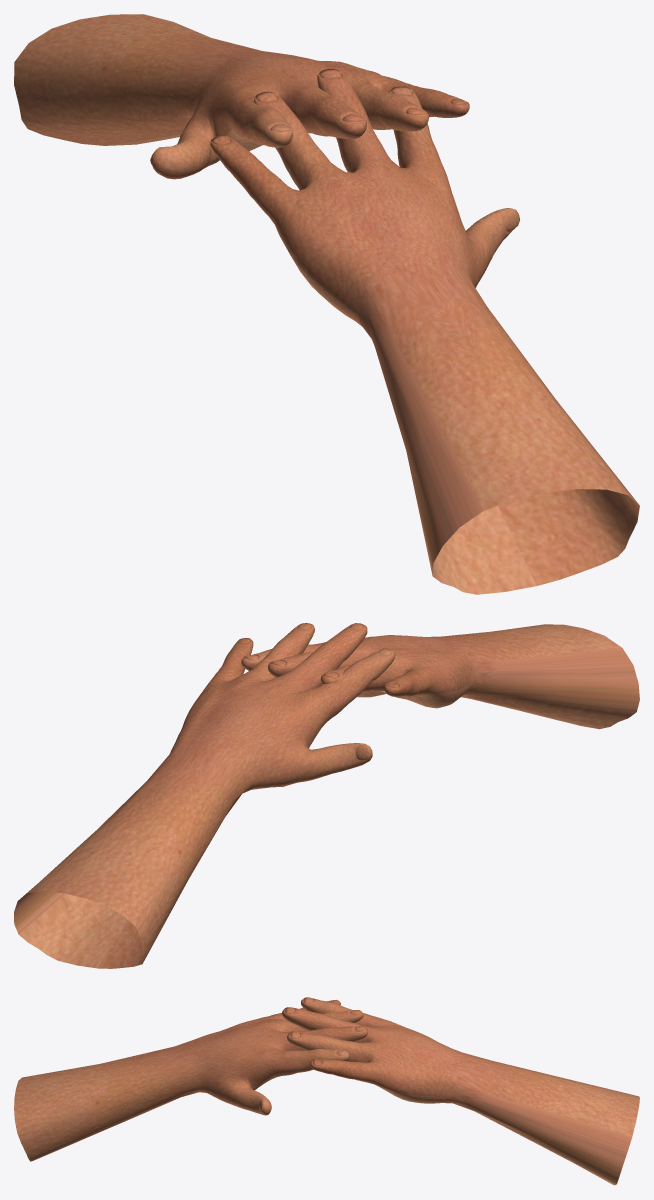
The model's file is hands_000072.obj.
3 renders of one model, top to bottom at view 1: azimuth 30°, elevation 25°; view 2: azimuth 150°, elevation 25°; view 3: azimuth 270°, elevation 25°, orthographic. The views are drawn at different scales.
Visible parts, largest first — view 1: hand.001_Mesh.001, hand_Mesh; view 2: hand_Mesh, hand.001_Mesh.001; view 3: hand_Mesh, hand.001_Mesh.001.
Boxes of the visible parts, x1,y1,x2,y2 form: hand.001_Mesh.001: (210, 69, 639, 594); hand_Mesh: (14, 14, 469, 179); hand_Mesh: (14, 623, 395, 968); hand.001_Mesh.001: (241, 624, 639, 729); hand_Mesh: (282, 997, 639, 1185); hand.001_Mesh.001: (14, 1000, 367, 1161).
Size of the model in its own units: 1.71 by 1.47 by 5.34.
1 material, 1 textured.
